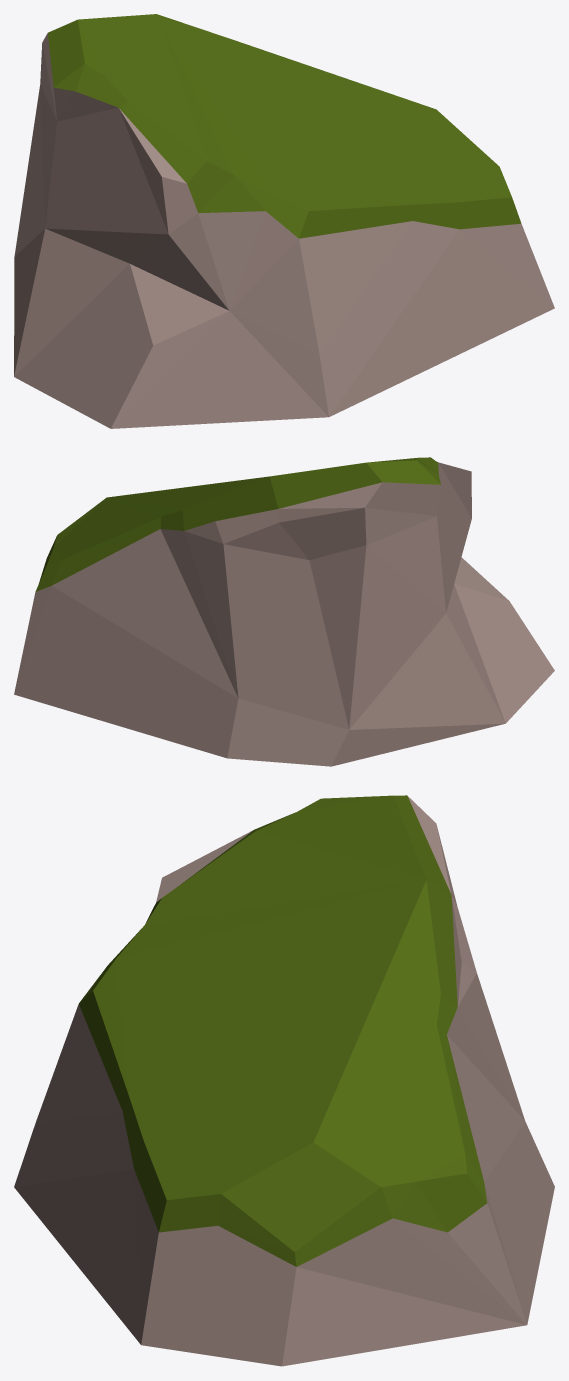
Rendered from Rock_3.fbx.
The picture shows the model from 3 angles, top to bottom: view 1: azimuth 30°, elevation 25°; view 2: azimuth 150°, elevation 25°; view 3: azimuth 270°, elevation 25°; orthographic projection. The views are drawn at different scales.
Parts seen in each view (by area): view 1: Rock_3; view 2: Rock_3; view 3: Rock_3.
Boxes of the visible parts, x1,y1,x2,y2 form: Rock_3: [14, 14, 554, 428]; Rock_3: [14, 457, 554, 766]; Rock_3: [14, 795, 554, 1366].
Bounding box in the file's own units: 4.67 × 2.59 × 3.69.
